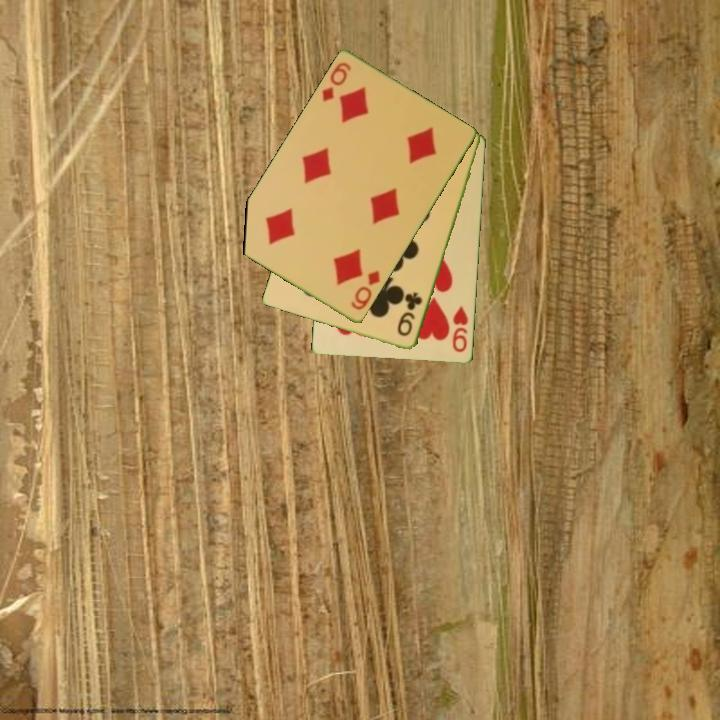6d: (347, 267, 383, 313), (318, 59, 354, 105)
9c: (394, 289, 425, 340)
9h: (449, 303, 471, 355)
